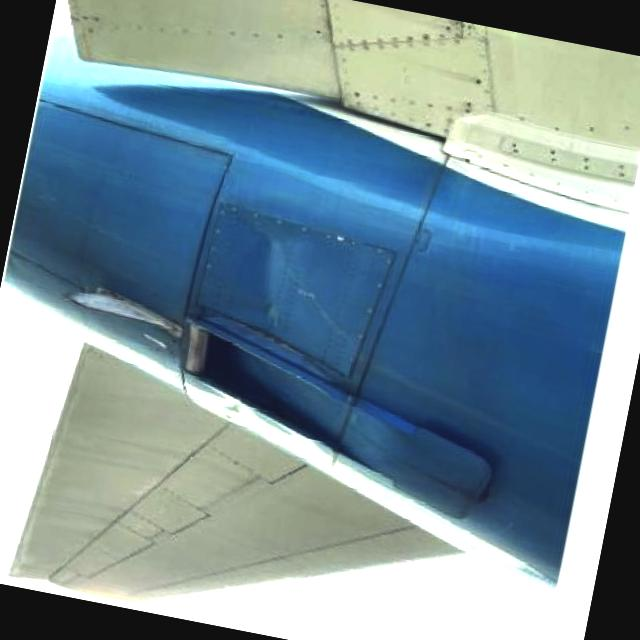dent: (226, 218, 319, 326)
